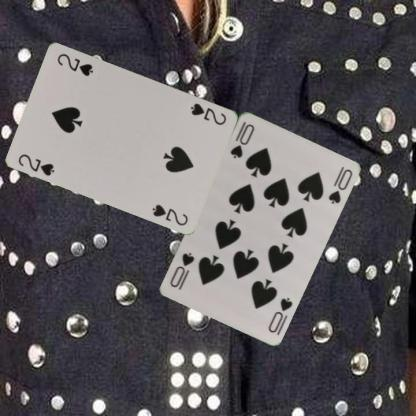10s: (265, 294, 294, 334), (227, 121, 256, 159)
2s: (188, 100, 228, 126), (16, 151, 56, 177)
